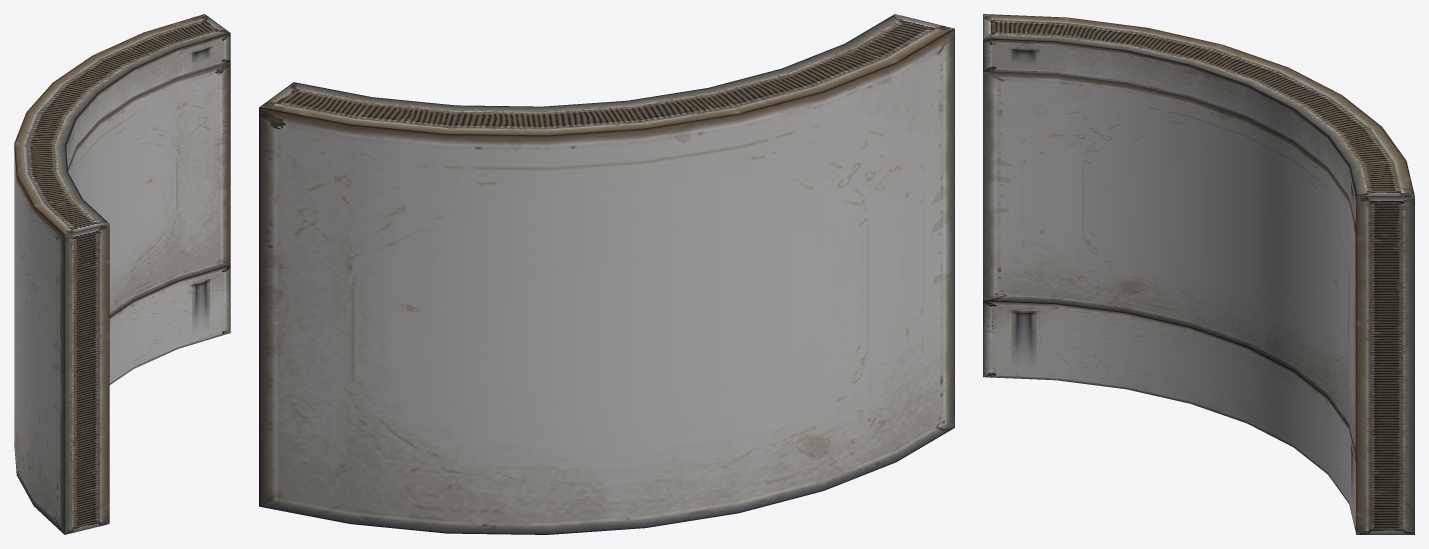
Rendered from scifi_wall_curve2_6.FBX.
3 views of the same model, side by side, from view 1: azimuth 30°, elevation 25°; view 2: azimuth 150°, elevation 25°; view 3: azimuth 270°, elevation 25° (orthographic). The views are drawn at different scales.
Parts seen in each view (by area): view 1: Plane107; view 2: Plane107; view 3: Plane107.
Part boxes in pixels (x1,y1,x2,y2): Plane107: (14, 14, 230, 534); Plane107: (259, 14, 954, 534); Plane107: (983, 14, 1414, 534).
Size of the model in its own units: 294 by 254 by 294.
